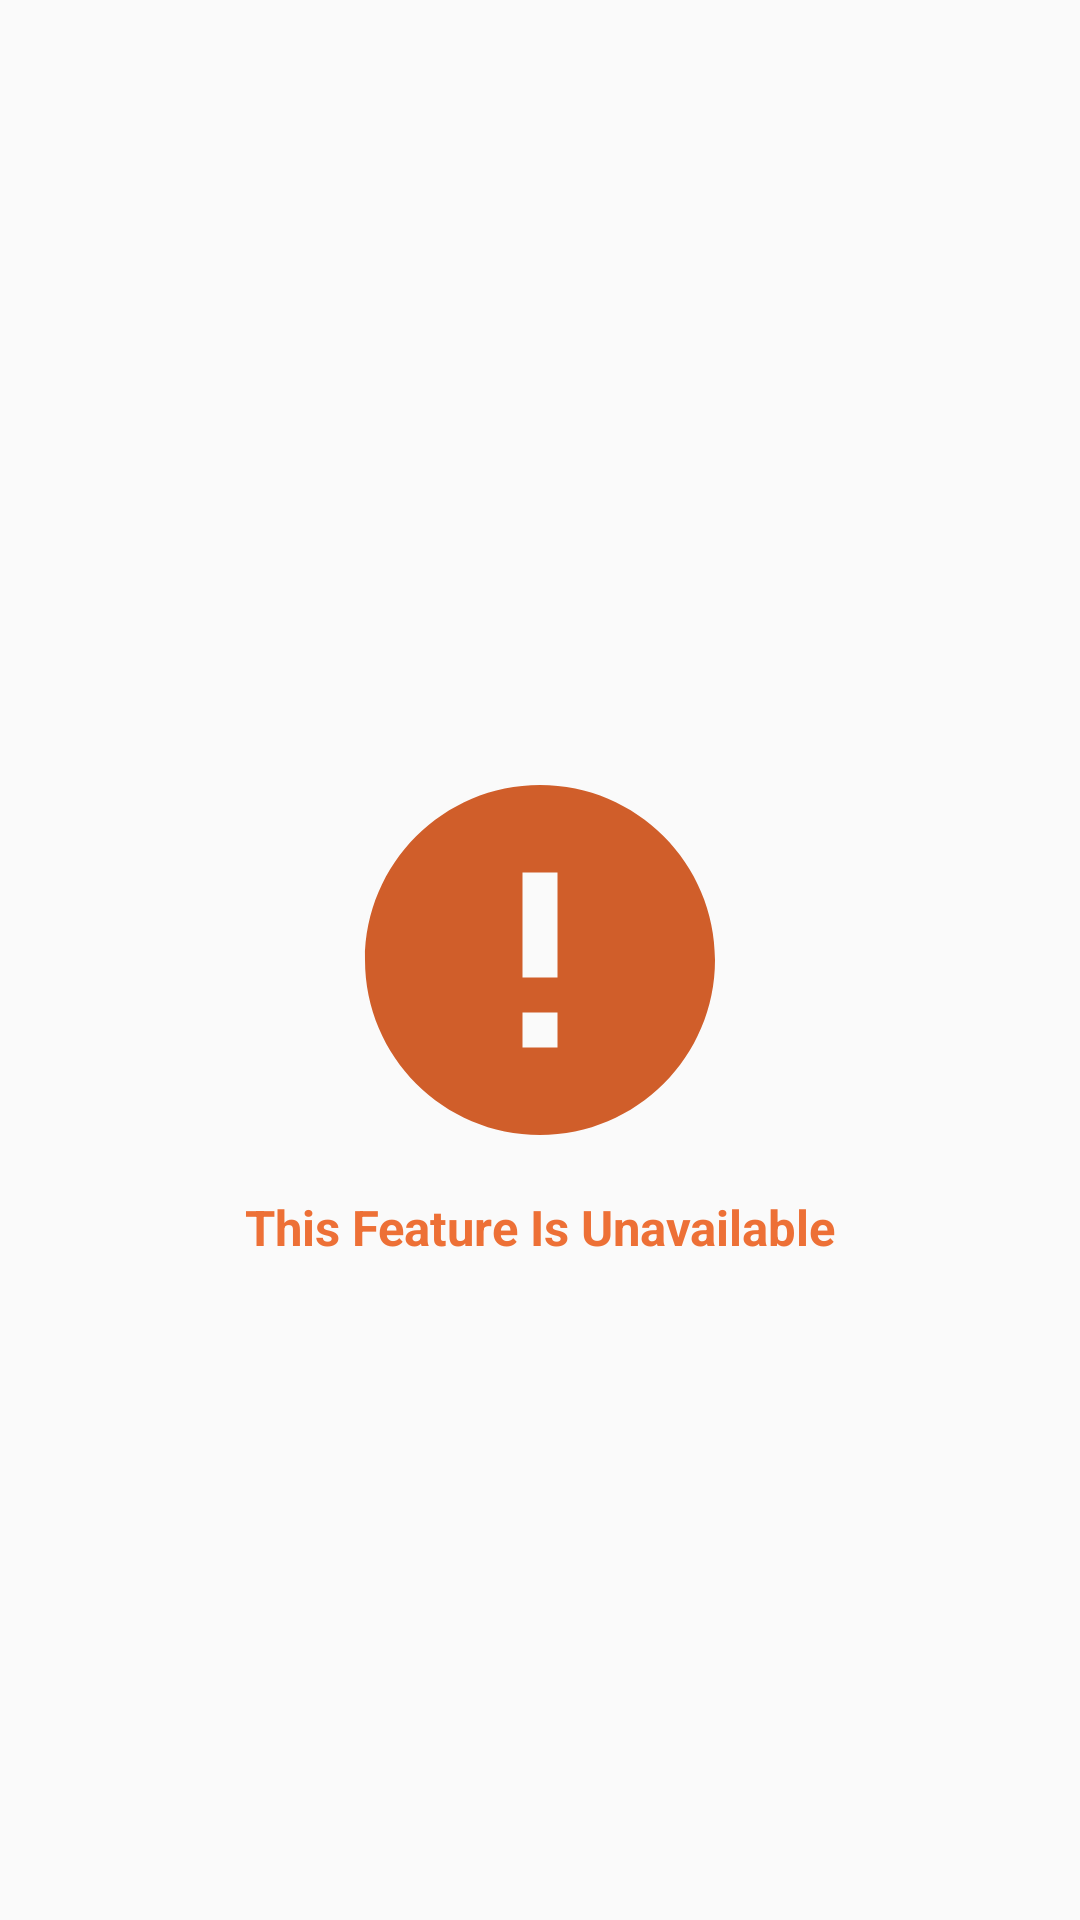

Named icons in this screenshot (1080px×1920px) and their bounding boxes, Rect(x1, y1, x2, y2):
error: Rect(365, 785, 715, 1135)
